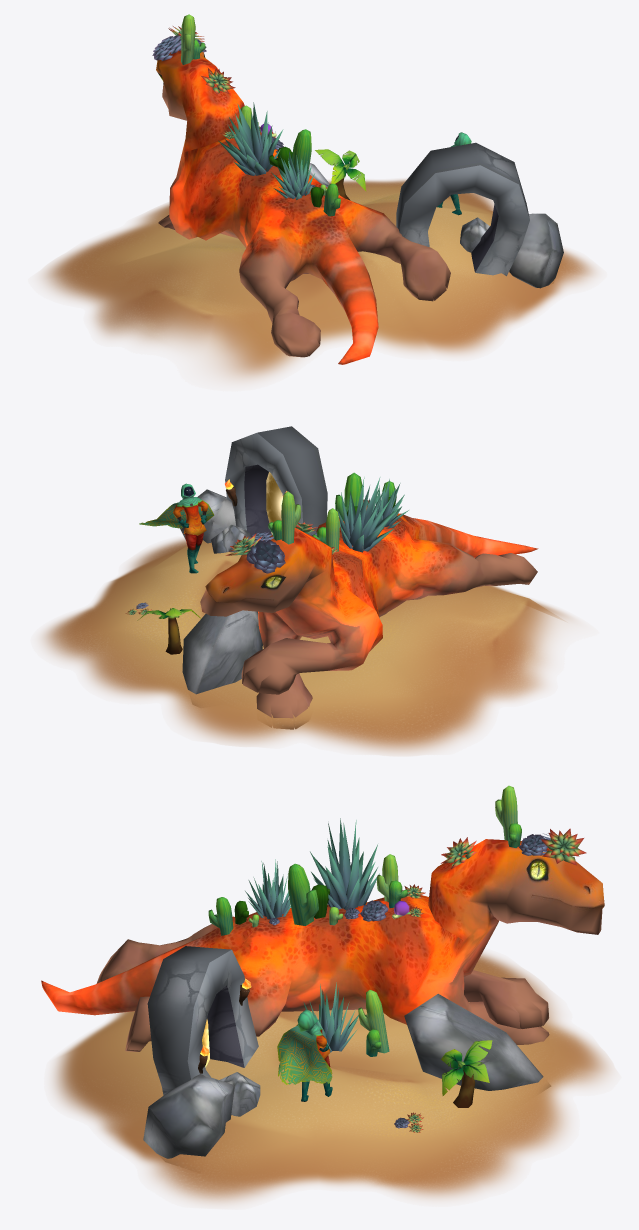
The model's file is sceneB.fae5e17e.gltf.
3 renders of one model, top to bottom at view 1: azimuth 30°, elevation 25°; view 2: azimuth 150°, elevation 25°; view 3: azimuth 270°, elevation 25°, orthographic. The views are drawn at different scales.
Parts seen in each view (by area): view 1: node_default_-1298_41, node_default_-1332_47, node_default_-1202_25, node_default_-1072_4, node_default_-1430_63, node_default_-1226_29, node_default_-1310_43, node_default_-1454_67, node_default_-1274_37, node_default_-1262_35; view 2: node_default_-1298_41, node_default_-1332_47, node_default_-1202_25, node_default_-1144_16, node_default_-1430_63, node_default_-1060_1, node_default_-1072_4, node_default_-1130_14, node_default_-1262_35, node_default_-1310_43, node_default_-1226_29, node_default_-1274_37 (+2 smaller); view 3: node_default_-1298_41, node_default_-1332_47, node_default_-1202_25, node_default_-1144_16, node_default_-1072_4, node_default_-1060_1, node_default_-1430_63, node_default_-1226_29, node_default_-1250_33, node_default_-1310_43, node_default_-1454_67, node_default_-1274_37 (+5 smaller).
Boxes of the visible parts, bbox=[...] form: node_default_-1298_41: bbox=[41, 179, 595, 380]; node_default_-1332_47: bbox=[156, 50, 450, 364]; node_default_-1202_25: bbox=[396, 142, 529, 276]; node_default_-1072_4: bbox=[509, 213, 563, 288]; node_default_-1430_63: bbox=[218, 102, 283, 175]; node_default_-1226_29: bbox=[315, 149, 366, 200]; node_default_-1310_43: bbox=[271, 151, 314, 199]; node_default_-1454_67: bbox=[292, 129, 311, 175]; node_default_-1274_37: bbox=[460, 217, 489, 252]; node_default_-1262_35: bbox=[181, 14, 195, 64]; node_default_-1298_41: bbox=[41, 538, 572, 754]; node_default_-1332_47: bbox=[200, 499, 538, 729]; node_default_-1202_25: bbox=[225, 426, 327, 537]; node_default_-1144_16: bbox=[182, 610, 262, 694]; node_default_-1430_63: bbox=[337, 477, 396, 552]; node_default_-1060_1: bbox=[139, 483, 214, 573]; node_default_-1072_4: bbox=[180, 489, 235, 543]; node_default_-1130_14: bbox=[246, 539, 285, 573]; node_default_-1262_35: bbox=[281, 491, 301, 544]; node_default_-1310_43: bbox=[365, 479, 408, 528]; node_default_-1226_29: bbox=[137, 608, 201, 654]; node_default_-1274_37: bbox=[211, 524, 250, 553]; node_default_-1298_41: bbox=[53, 936, 610, 1203]; node_default_-1332_47: bbox=[41, 839, 604, 1051]; node_default_-1202_25: bbox=[147, 946, 258, 1095]; node_default_-1144_16: bbox=[404, 993, 550, 1090]; node_default_-1072_4: bbox=[143, 1074, 234, 1161]; node_default_-1060_1: bbox=[277, 1010, 332, 1101]; node_default_-1430_63: bbox=[310, 818, 379, 910]; node_default_-1226_29: bbox=[441, 1040, 492, 1107]; node_default_-1250_33: bbox=[298, 982, 358, 1052]; node_default_-1310_43: bbox=[245, 859, 290, 919]; node_default_-1454_67: bbox=[288, 863, 318, 925]; node_default_-1274_37: bbox=[219, 1072, 260, 1116].
Bounding box in the file's own units: 23.8 × 11.34 × 22.6.
15 materials, 15 textured.
